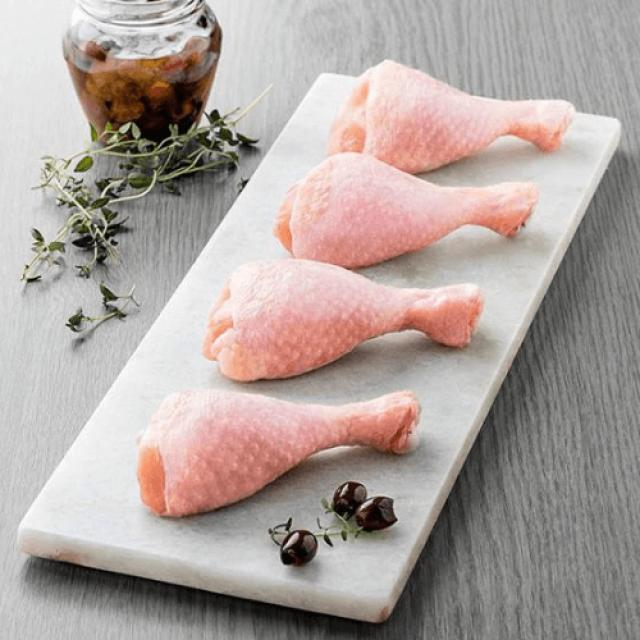leg: (133, 382, 424, 522), (207, 254, 482, 384), (268, 151, 540, 246), (340, 54, 570, 163)
